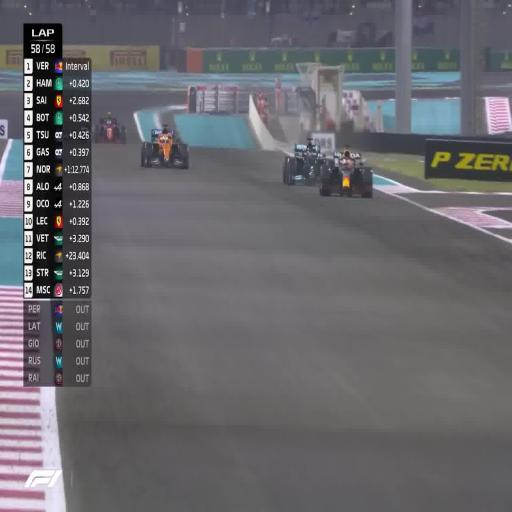f1_car: (319, 148, 373, 197), (141, 125, 189, 168), (282, 138, 326, 184), (92, 112, 126, 144)
